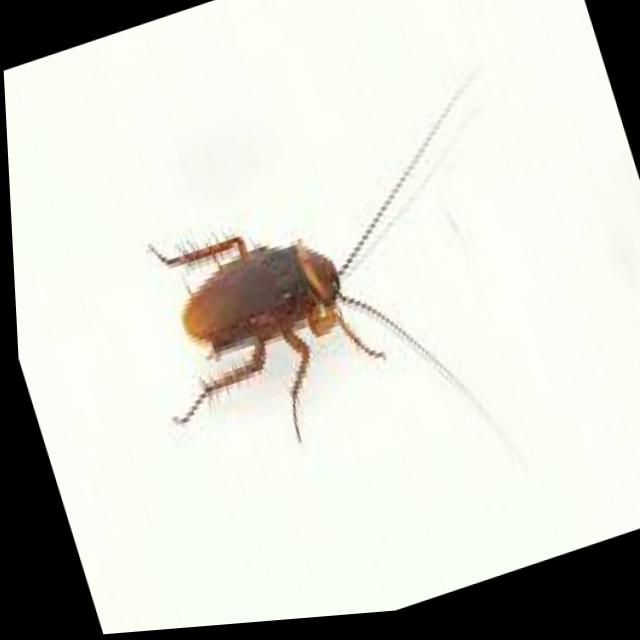Cockroach: (92, 51, 602, 562)
